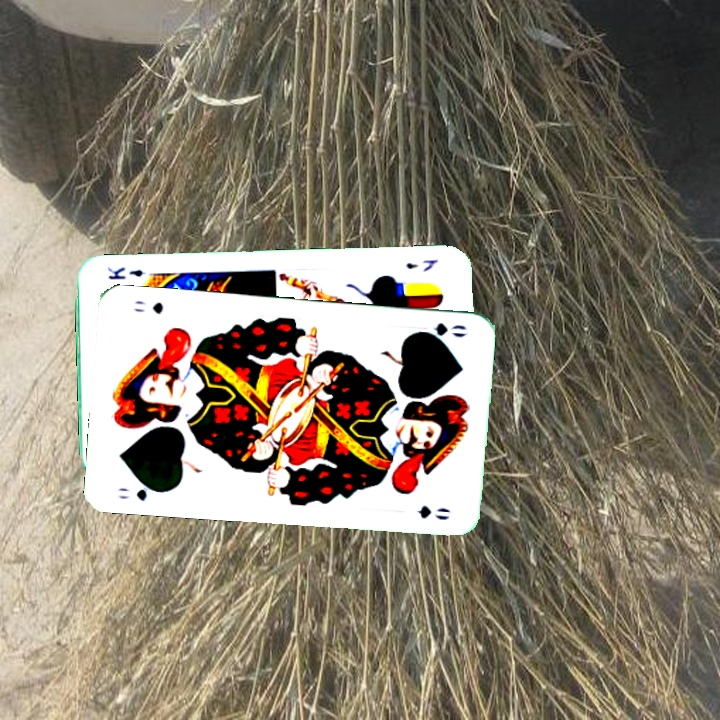EK: (402, 256, 441, 274)
GO: (114, 479, 168, 504), (410, 319, 469, 341)
